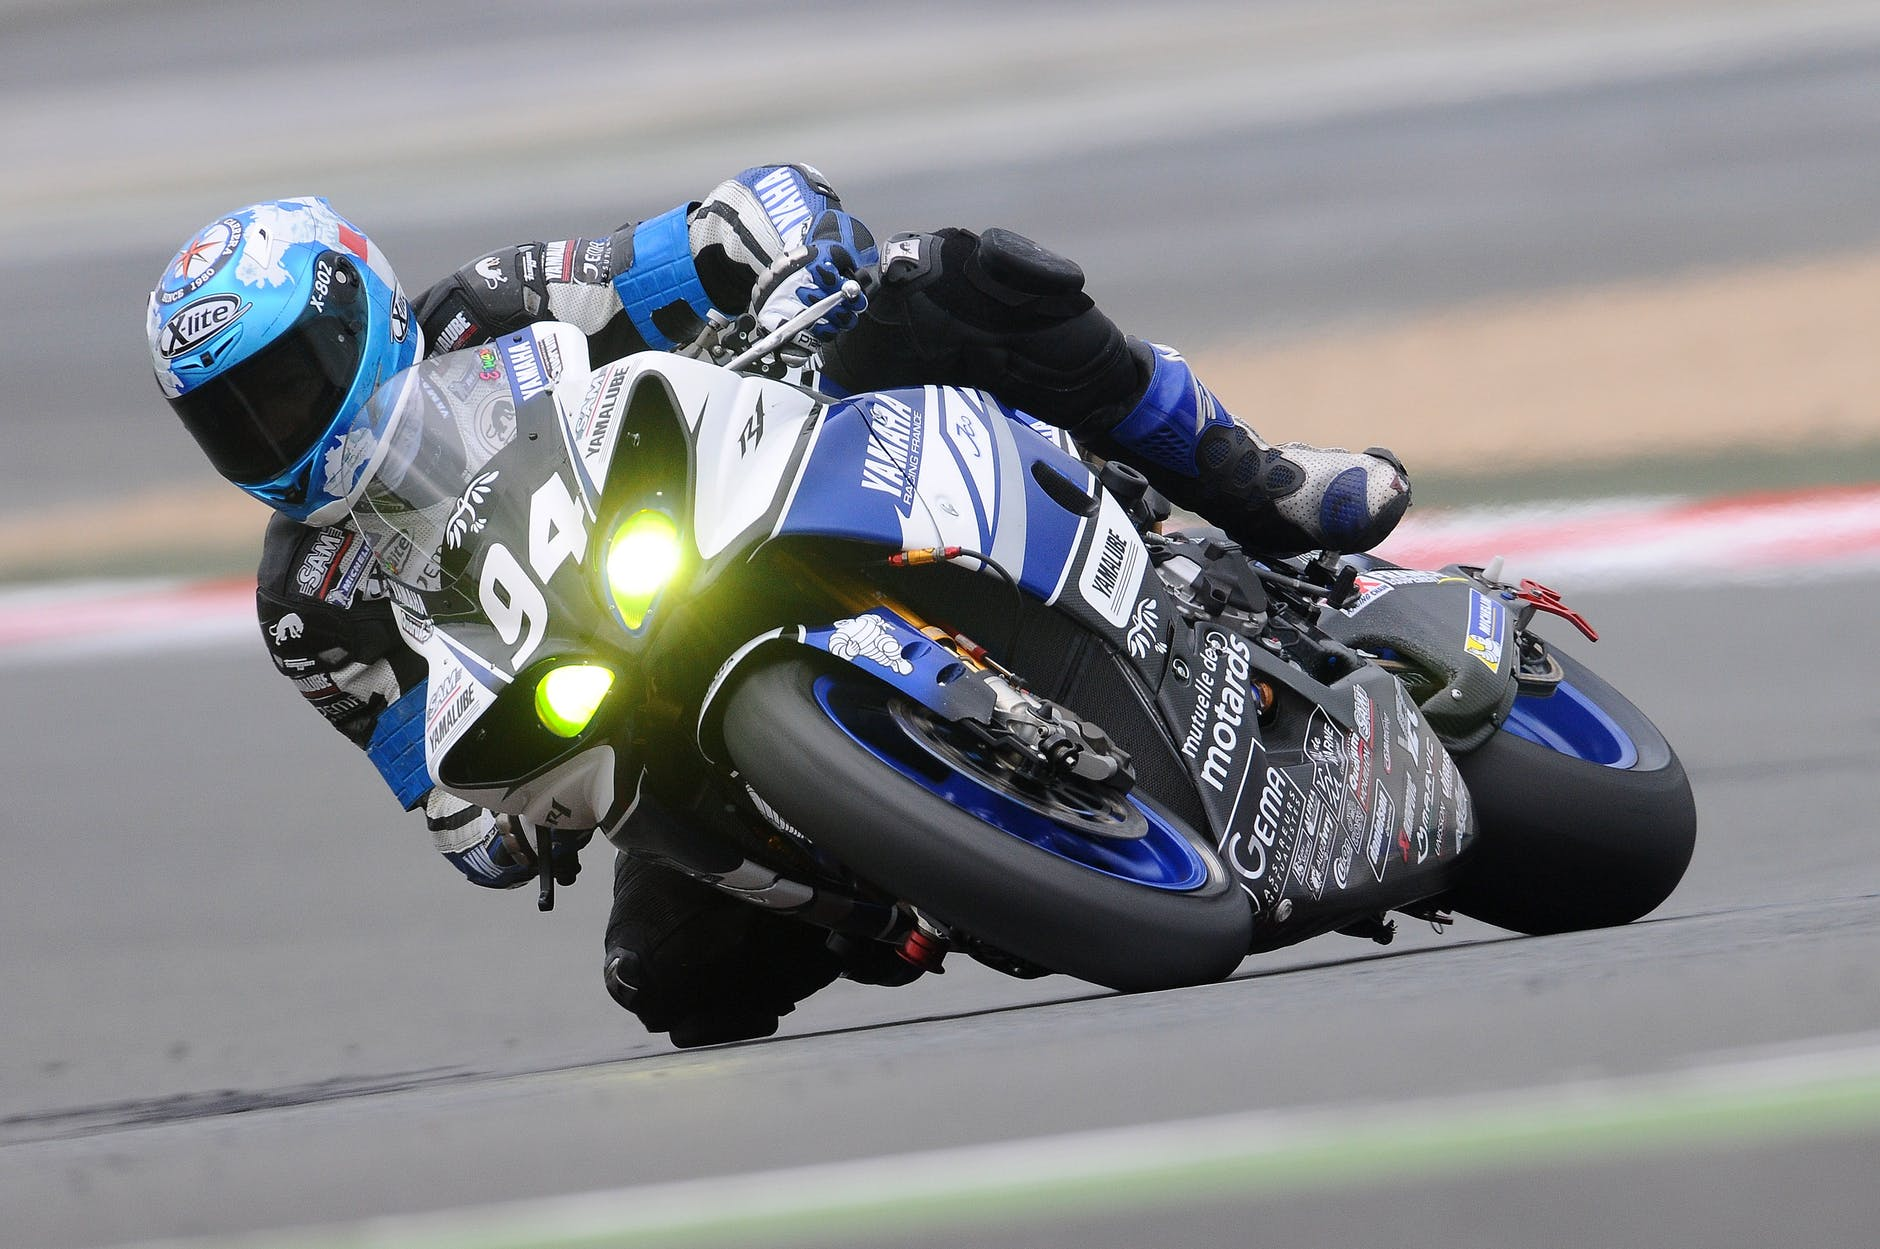helmet: (125, 219, 431, 496)
